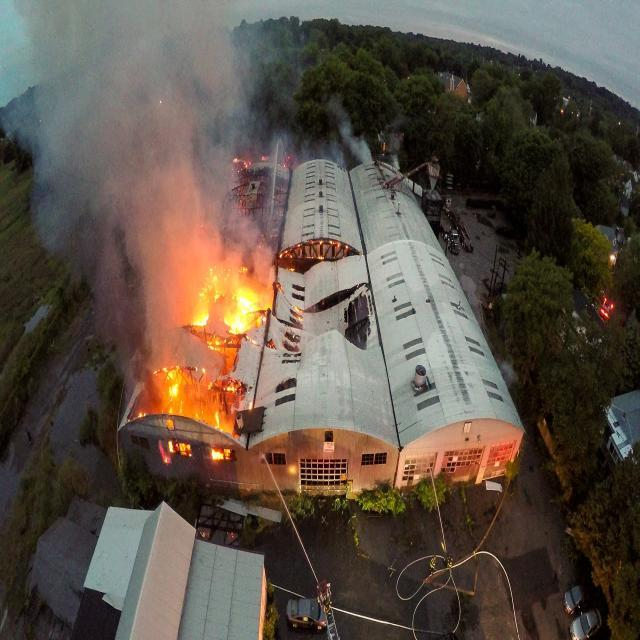Fire: (171, 283, 260, 420)
Smoke: (12, 0, 268, 340)
